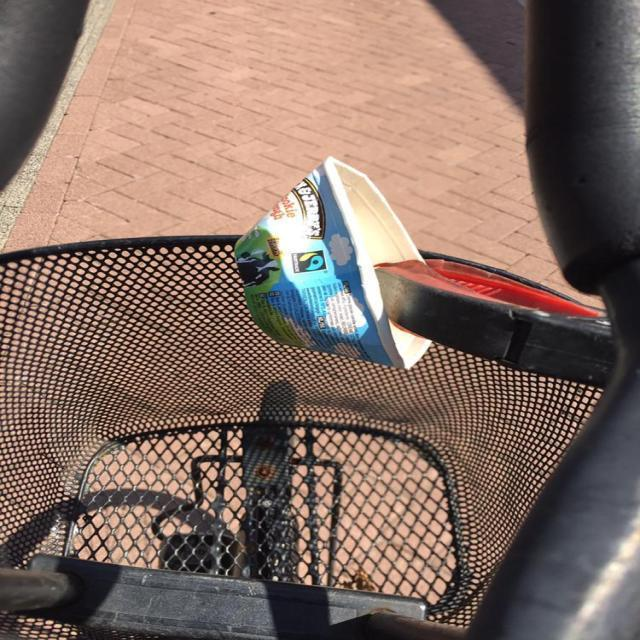Paper: (230, 153, 436, 371)
